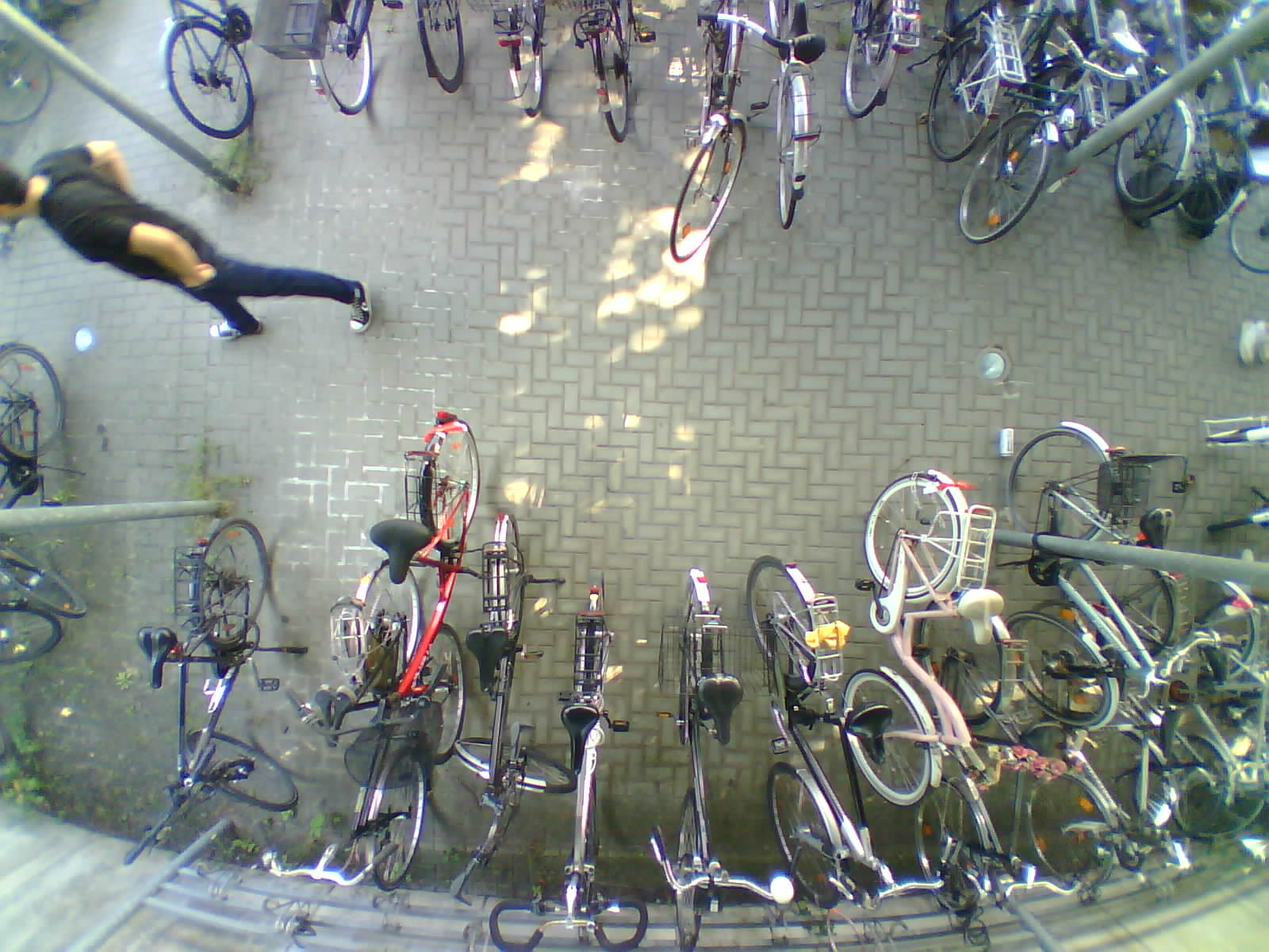bicylce: (999, 409, 1158, 724), (1083, 547, 1256, 832), (362, 425, 490, 785), (851, 462, 976, 800), (752, 552, 867, 908), (153, 514, 273, 832), (1033, 588, 1152, 908), (322, 557, 430, 882), (658, 571, 749, 952), (929, 587, 1015, 914), (470, 513, 543, 886), (555, 572, 622, 947), (977, 0, 1072, 250)
saddle: (372, 515, 432, 583), (698, 670, 746, 748), (309, 677, 357, 752), (779, 0, 828, 70), (466, 630, 512, 693), (136, 625, 178, 692), (560, 704, 598, 772), (961, 589, 1004, 648), (852, 706, 896, 763), (1106, 11, 1150, 61), (1140, 501, 1179, 556), (1153, 697, 1184, 760), (1204, 638, 1228, 685), (1246, 79, 1269, 119)
